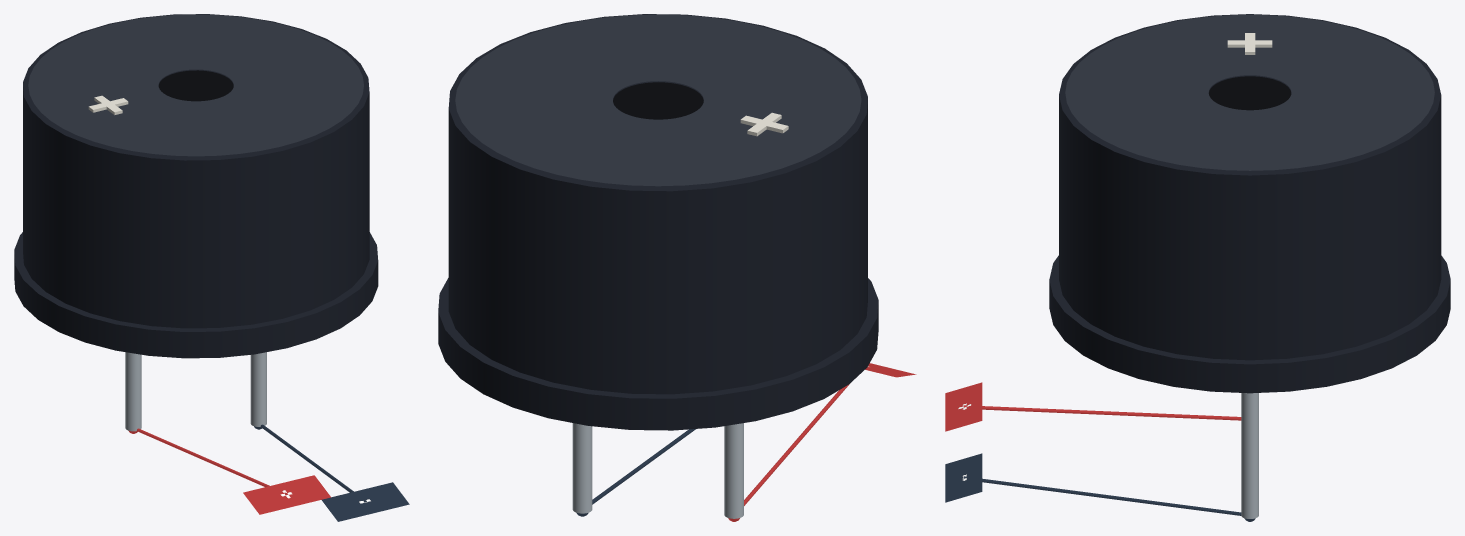
The model's file is buzzer.glb.
3 renders of one model, left to right at view 1: azimuth 30°, elevation 25°; view 2: azimuth 150°, elevation 25°; view 3: azimuth 270°, elevation 25°, orthographic. The views are drawn at different scales.
Visible parts, largest first — view 1: buzzer, +, −, Terminal labels; view 2: buzzer, Terminal labels; view 3: buzzer, Terminal labels, +, −.
Part boxes in pixels (x1=…): buzzer: x1=14, y1=14, x2=378, y2=431; +: x1=243, y1=475, x2=330, y2=514; −: x1=321, y1=482, x2=409, y2=521; Terminal labels: x1=128, y1=424, x2=366, y2=502; buzzer: x1=438, y1=14, x2=878, y2=518; Terminal labels: x1=576, y1=384, x2=849, y2=521; buzzer: x1=1049, y1=14, x2=1450, y2=518; Terminal labels: x1=963, y1=405, x2=1255, y2=521; +: x1=945, y1=382, x2=982, y2=431; −: x1=945, y1=453, x2=982, y2=502.
Size of the model in its own units: 0.0126 by 0.0138 by 0.0159.
9 materials, 2 textured.
